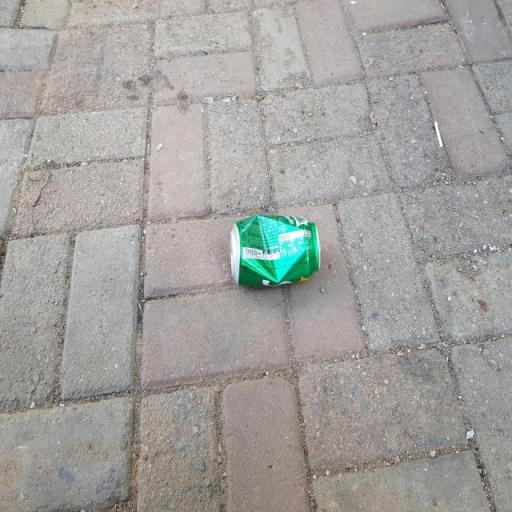metal: (191, 168, 340, 298)
